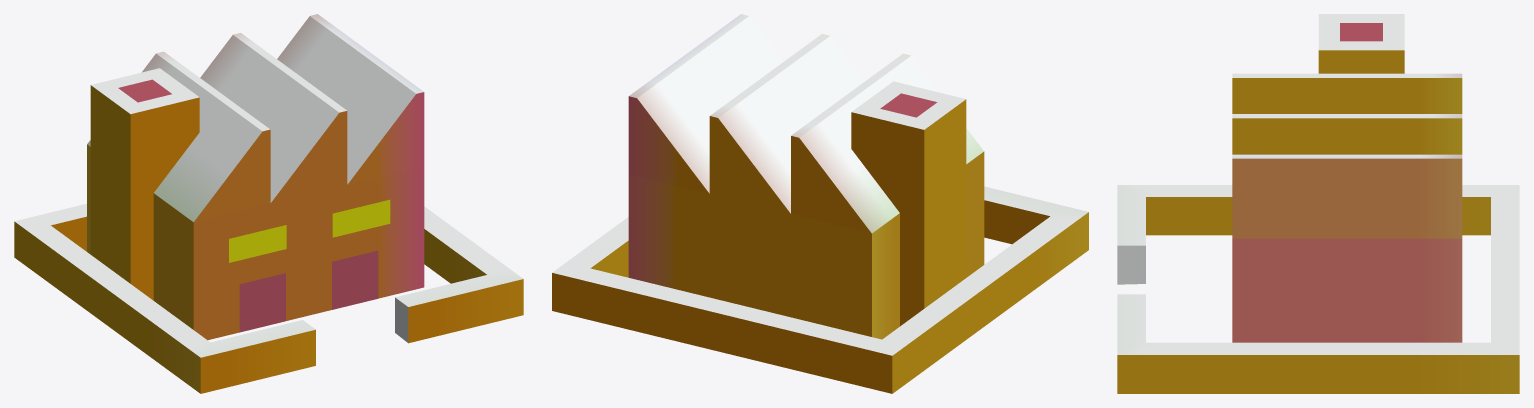
Rendered from Factory.YellowComet.Snow.glb.
3 views of the same model, side by side, from view 1: azimuth 30°, elevation 25°; view 2: azimuth 150°, elevation 25°; view 3: azimuth 270°, elevation 25° (orthographic). The views are drawn at different scales.
Visible parts, largest first — view 1: Factory.YellowComet.Snow; view 2: Factory.YellowComet.Snow; view 3: Factory.YellowComet.Snow.
Part boxes in pixels (<box>): Factory.YellowComet.Snow: <box>14,14,523,393</box>; Factory.YellowComet.Snow: <box>552,14,1088,393</box>; Factory.YellowComet.Snow: <box>1117,14,1519,393</box>.
Size of the model in its own units: 2.8 by 1.71 by 2.8.
Materials: 2 (1 with a texture image).
